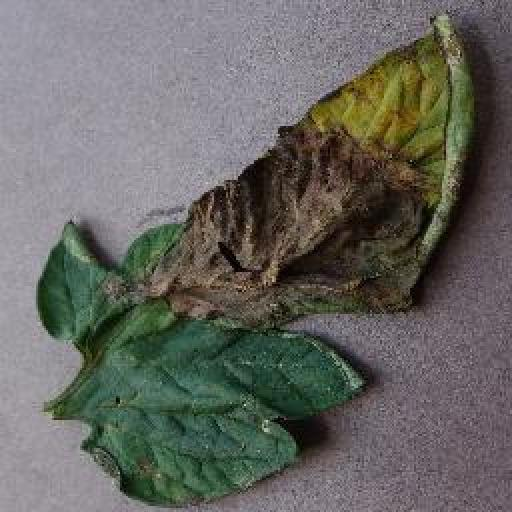Late Blight: (35, 17, 476, 507)
